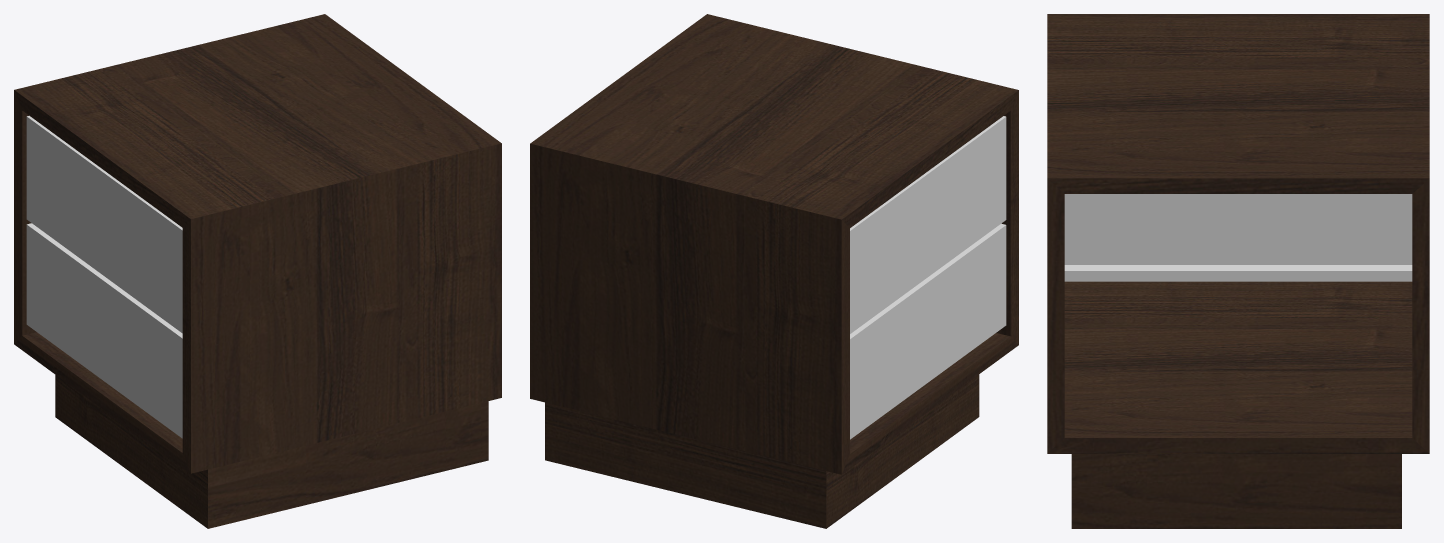
File: velador-madera.fbx
3 renders of one model, left to right at view 1: azimuth 30°, elevation 25°; view 2: azimuth 150°, elevation 25°; view 3: azimuth 270°, elevation 25°, orthographic. The views are drawn at different scales.
Visible parts, largest first — view 1: Rectangle005, Object047, Box013, Box011; view 2: Rectangle005, Object047, Box013, Box011; view 3: Object047, Box013, Box011, Rectangle005.
Part boxes in pixels (x1,y1,x2,y2): Rectangle005: [14, 90, 501, 473]; Object047: [14, 14, 501, 473]; Box013: [26, 115, 182, 438]; Box011: [55, 375, 488, 528]; Rectangle005: [530, 90, 1018, 474]; Object047: [530, 14, 1018, 474]; Box013: [850, 116, 1006, 439]; Box011: [545, 374, 979, 528]; Object047: [1047, 14, 1429, 453]; Box013: [1064, 194, 1412, 281]; Box011: [1071, 454, 1401, 528]; Rectangle005: [1047, 179, 1429, 453].
Size of the model in its own units: 55.53 by 55.44 by 54.65.
Materials: 1 (1 with a texture image).
